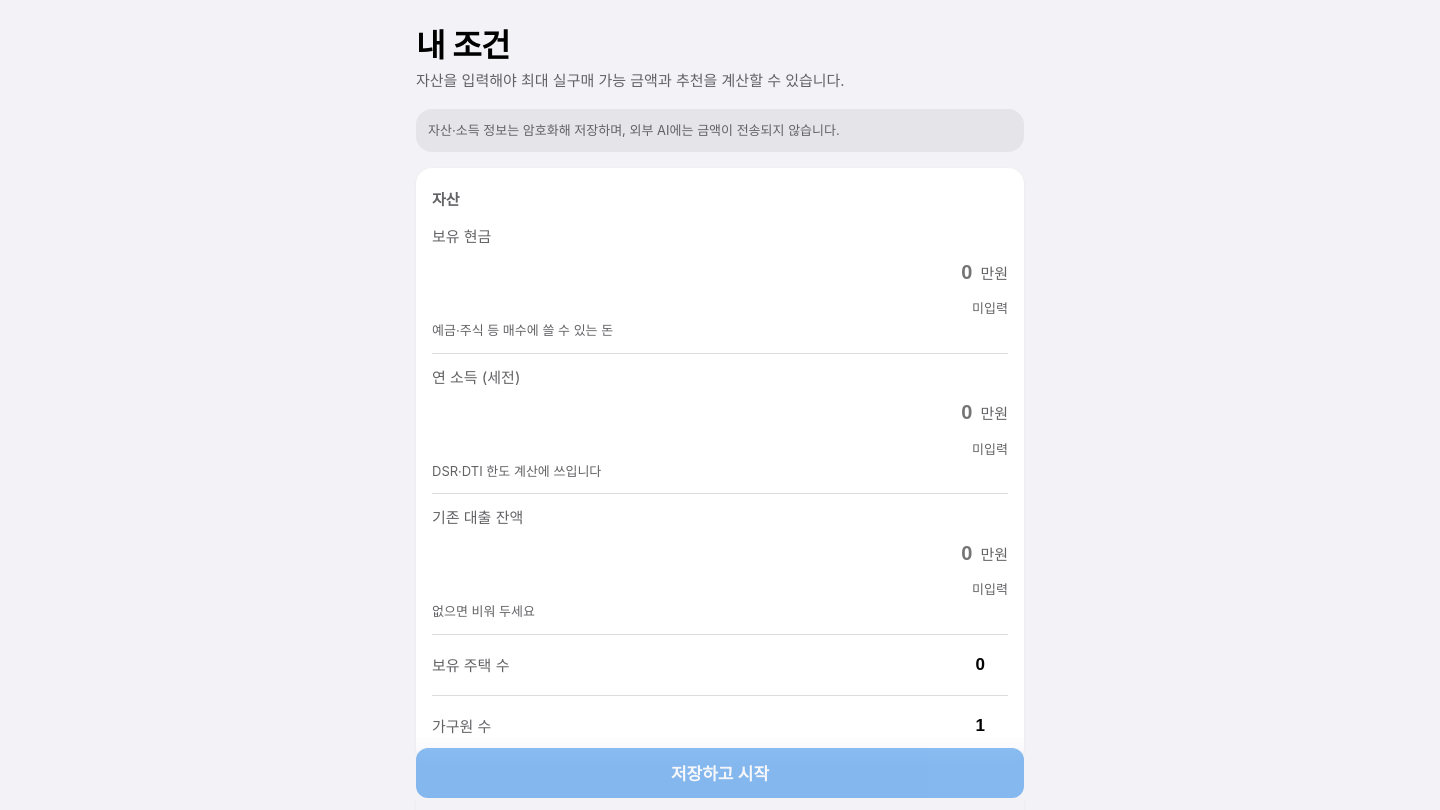
it: 프로필이 없을 때 › 저장하면 지도 화면으로 넘어간다
Expected: the heading "내 조건" is shown, [416,26,510,65]
Step 1. Type "30000" into the field labelled "보유 현금" → (702, 272), box [432,250,972,294]
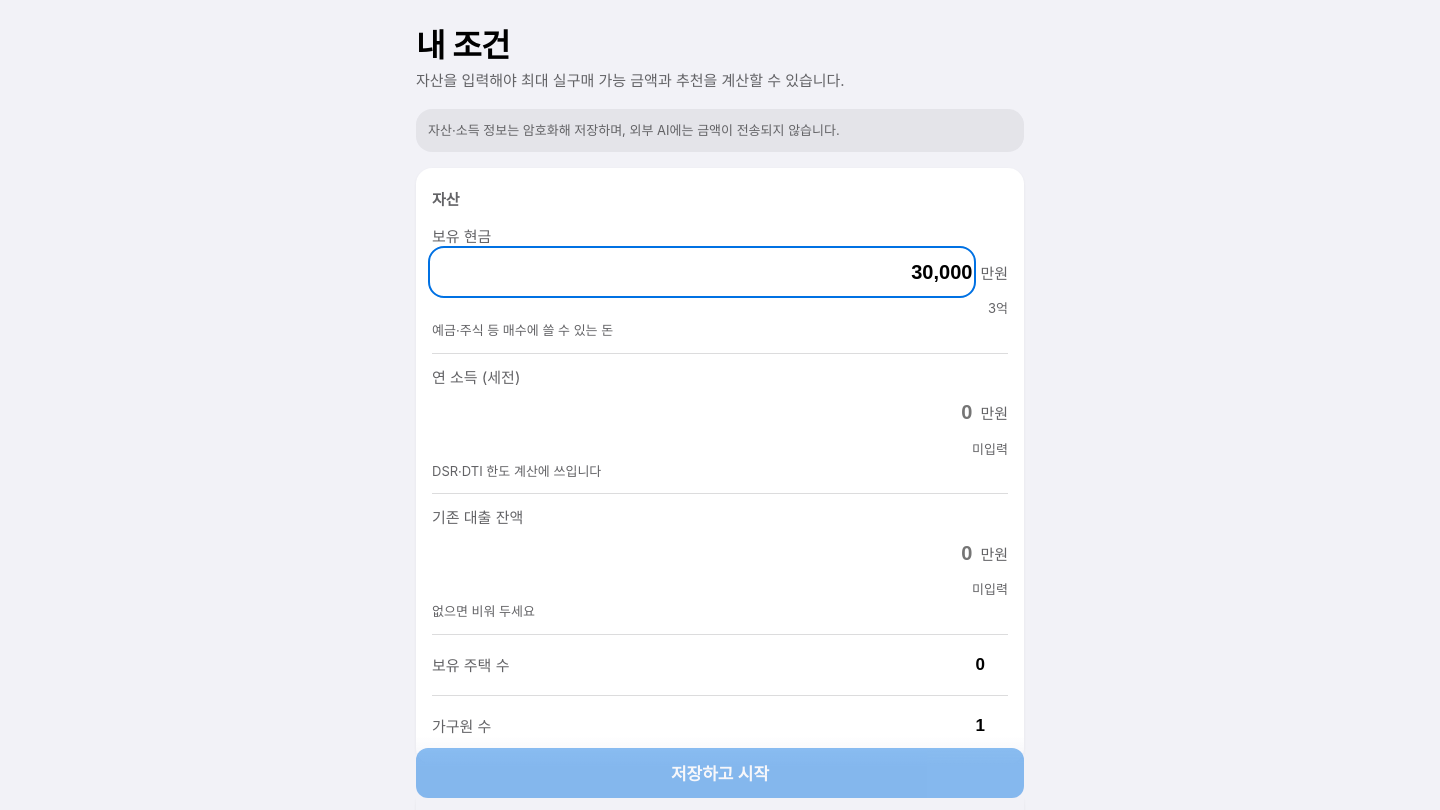
Step 2. Type "9000" into the field labelled "연 소득 (세전)" → (702, 412), box [432,390,972,434]
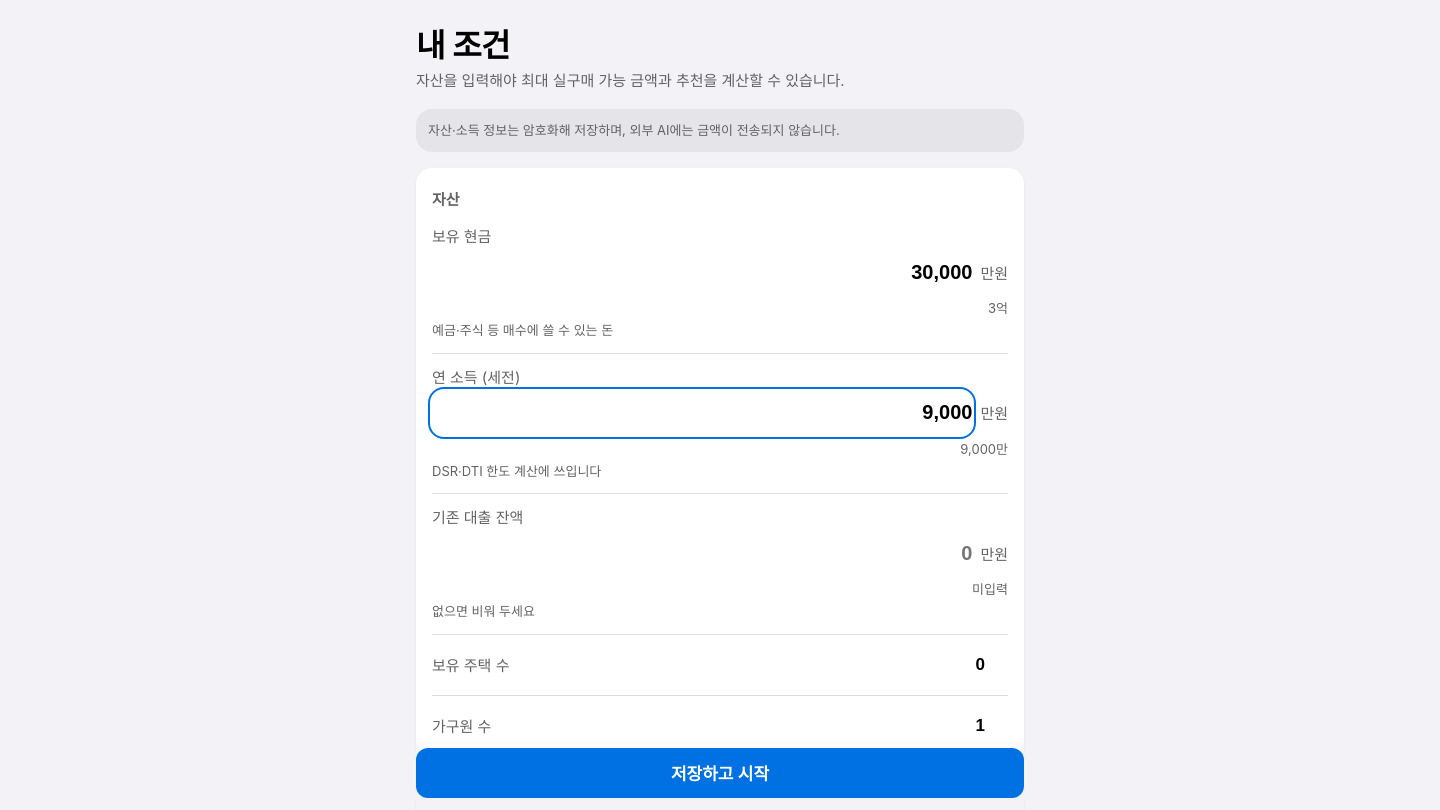
Step 3. Click the button "저장하고 시작" → (720, 773), box [416,748,1024,798]
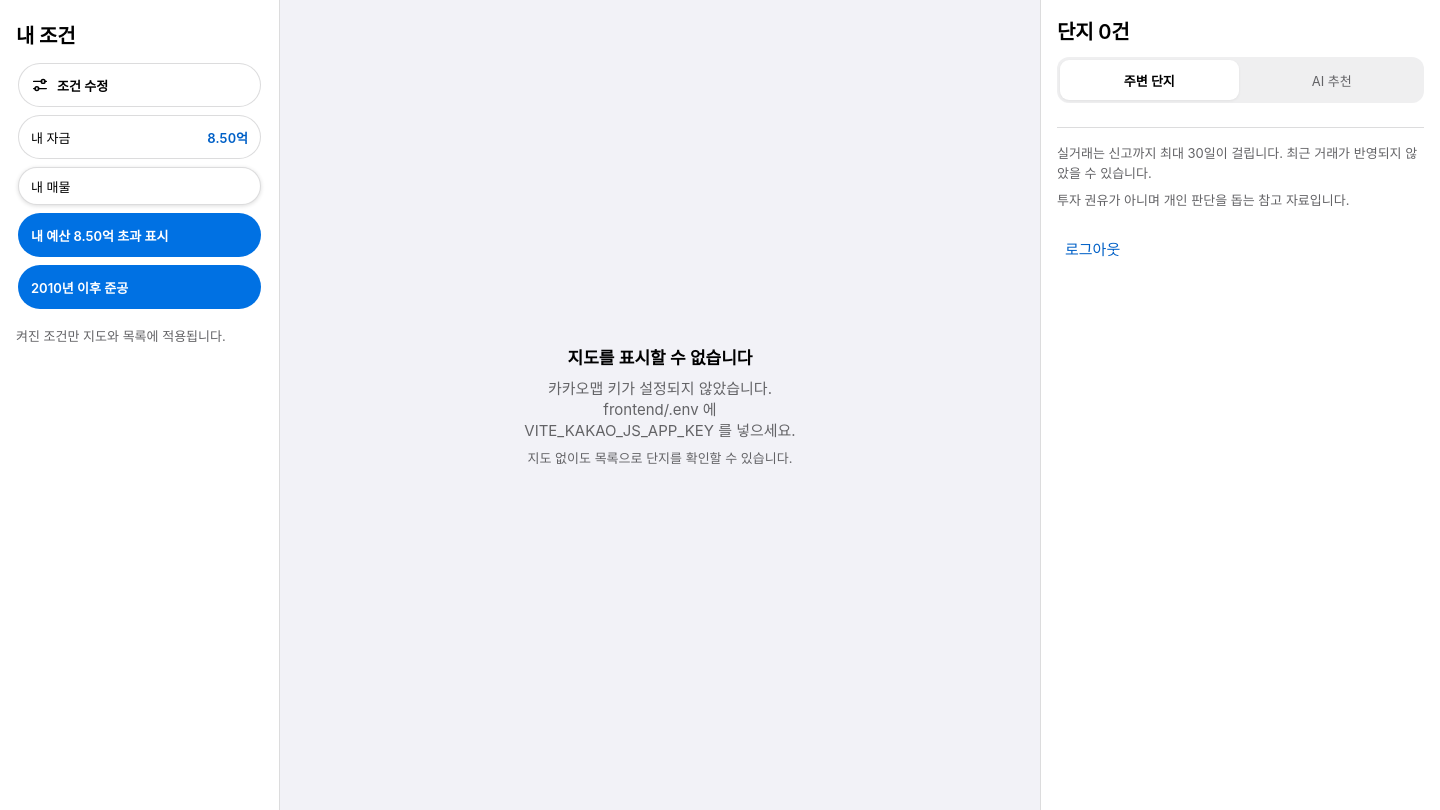
Expected: the tab "AI 추천" is shown, [1242,60,1421,100]
